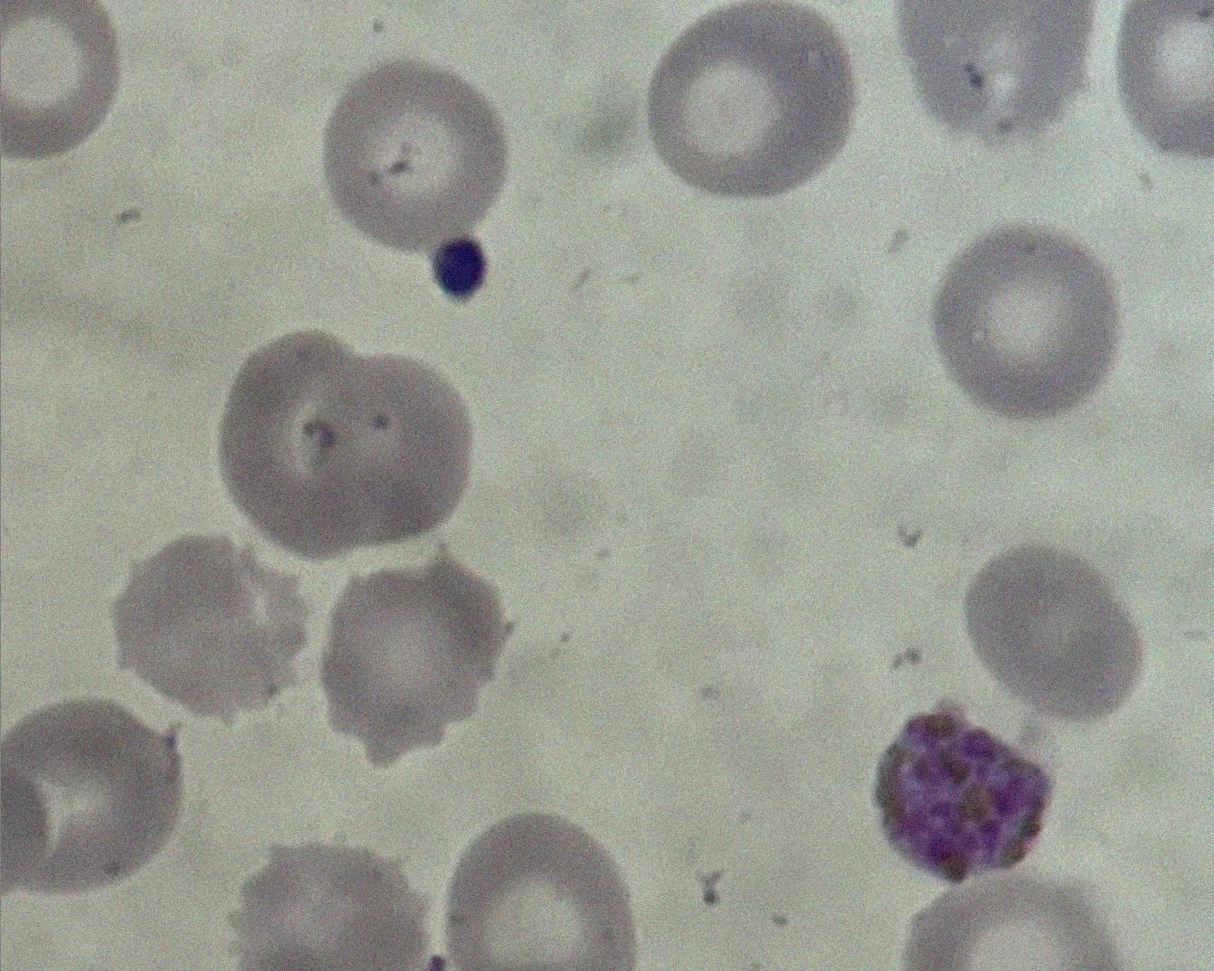Infected: (875, 713, 1046, 872)
Uninfected: (224, 331, 471, 552), (651, 3, 855, 201), (323, 557, 510, 771), (115, 539, 311, 724), (931, 229, 1120, 412), (0, 699, 180, 890), (332, 57, 508, 246), (967, 550, 1144, 728)
